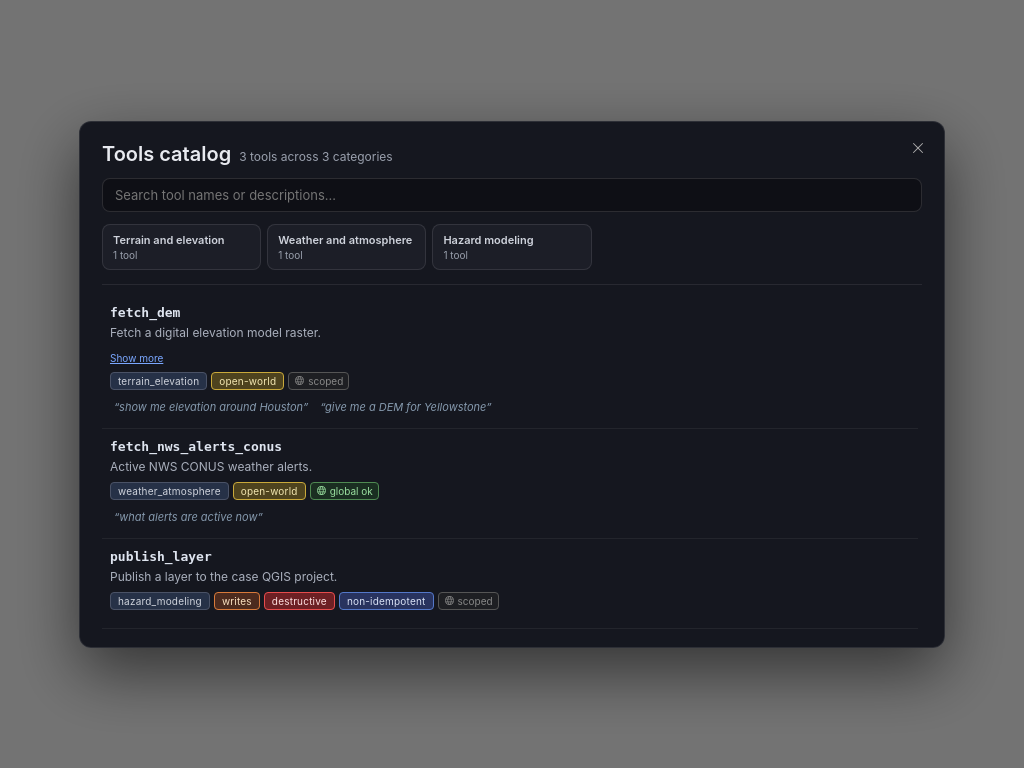
Scenario: ToolsCatalogPopup › search filters by name and description (debounced)
Type "publish" into the field with test id "grace2-tools-catalog-search". click: coordinates (512, 194)
box: [102,178,922,212]
Wait 300 ms
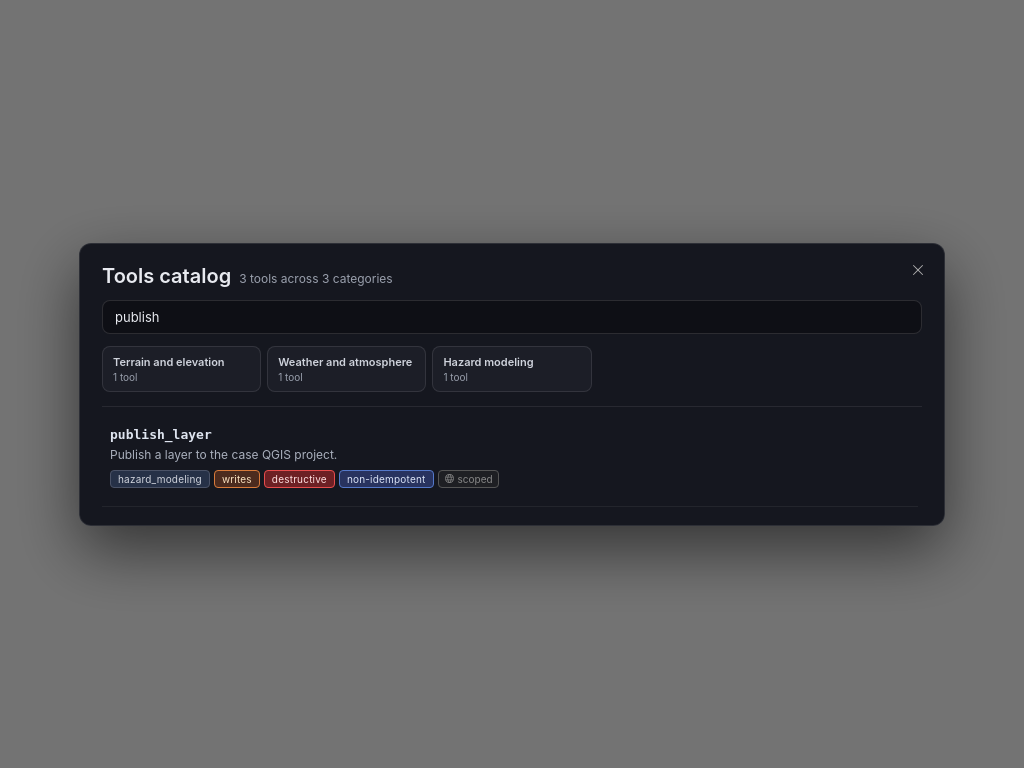
expect the number of elements with test id "grace2-tools-catalog-row" is 1: met, box [102,416,918,506]
